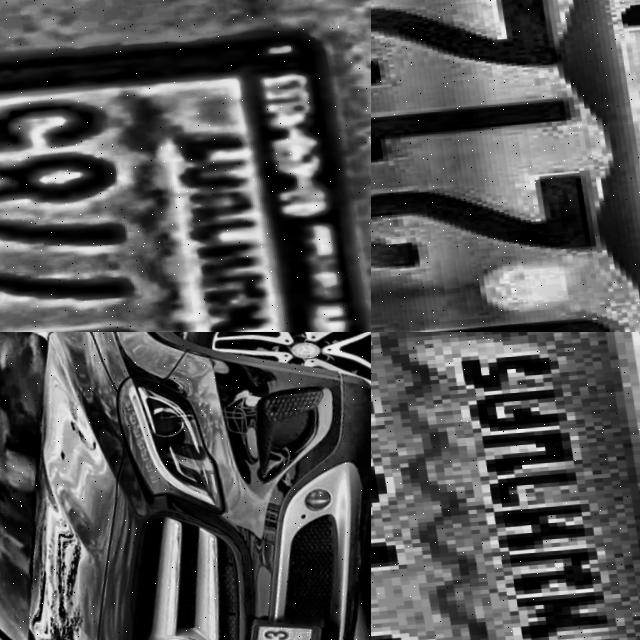license-plate: (0, 38, 371, 332), (371, 0, 640, 332), (371, 332, 640, 640), (210, 616, 330, 640)
